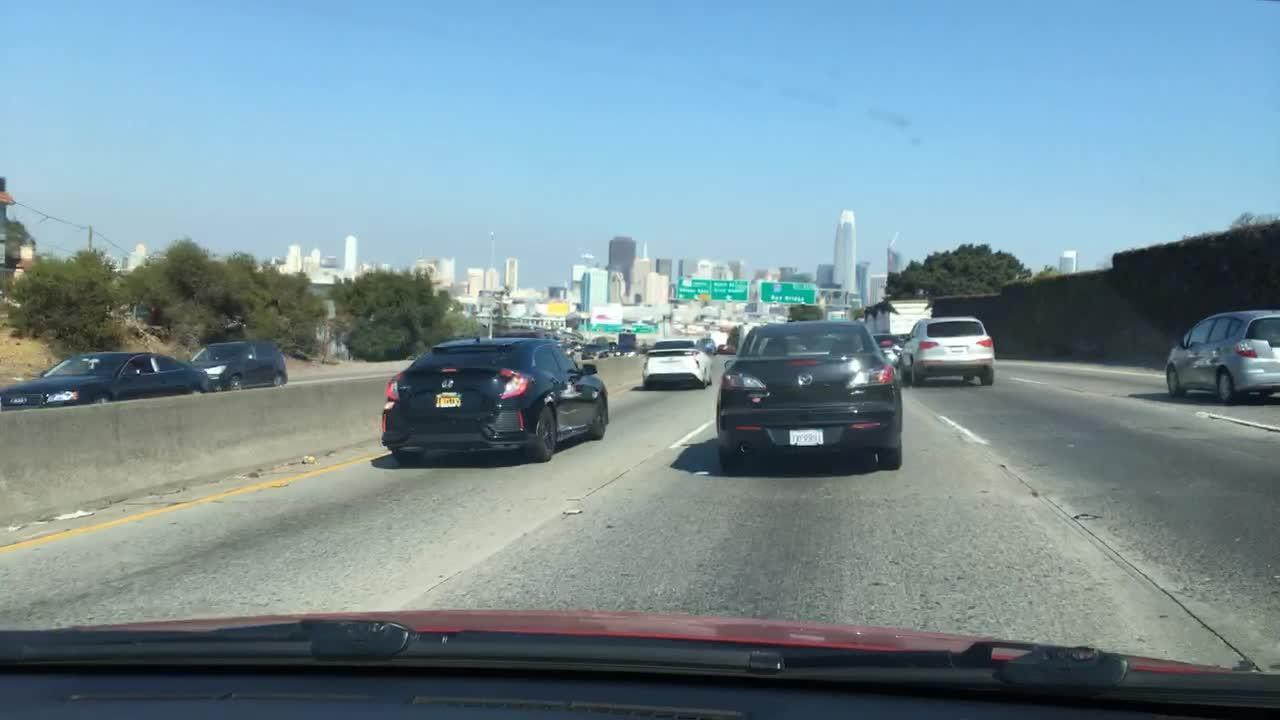Audi: (9, 393, 32, 407)
Mazda: (795, 371, 813, 389)
